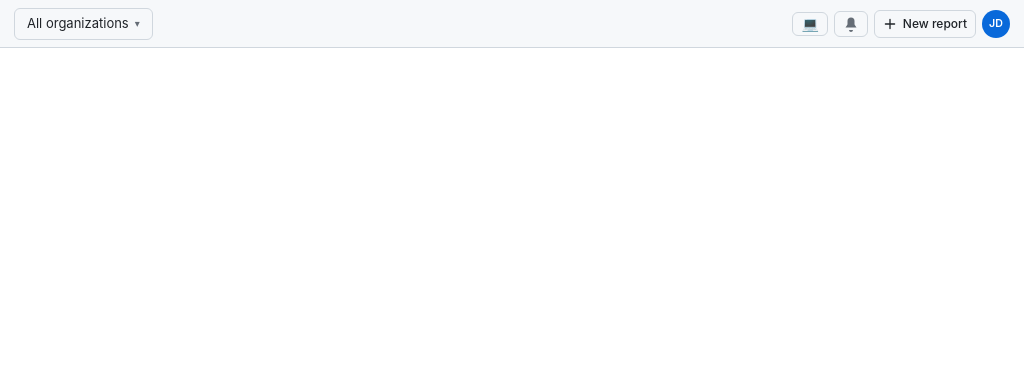
Test case: TopBar › renders dropdown for >6 orgs
Click the button with aria-label "Select organization" at {"x": 83, "y": 24}, box [14,8,153,40]
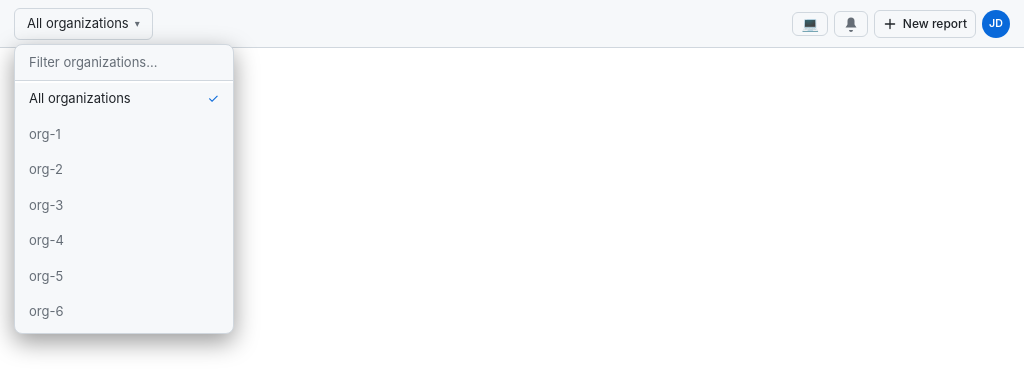
Result: the field labelled "Filter organizations" is shown at [15,44,233,81]
